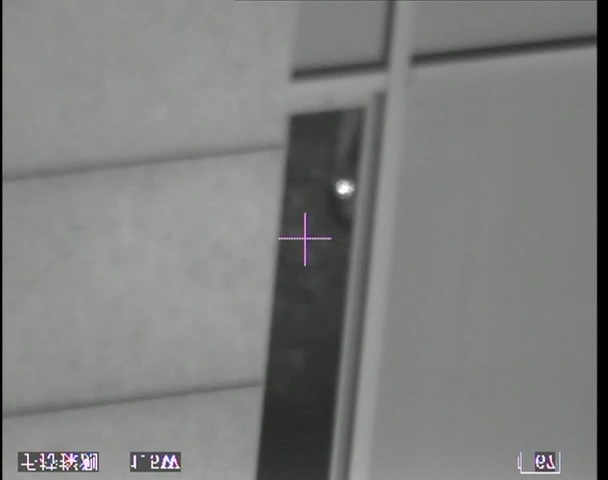my: (334, 178, 355, 196)
